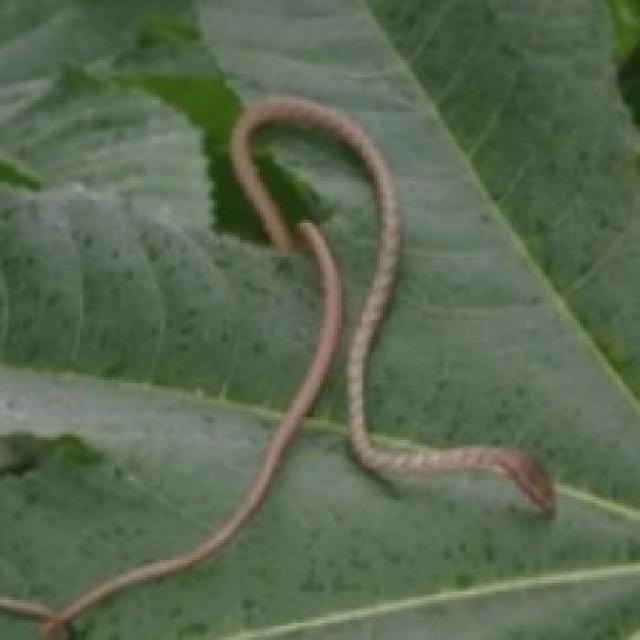philippine whip snake: (0, 220, 340, 637), (231, 97, 554, 514)
